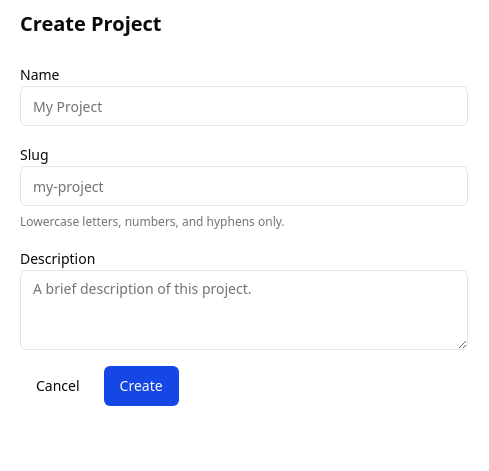
CreateProjectPage › slug validation rejects invalid slugs
// Manually set the name to something so slug gets generated, then clear slug and type invalid
Type "test" into the field labelled "Name" at (244, 106), box [20, 86, 468, 126]
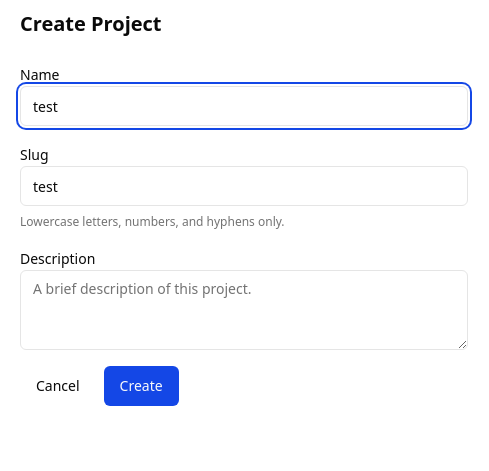
Replace the text in the field labelled "Slug" with "INVALID SLUG!" at (244, 186), box [20, 166, 468, 206]
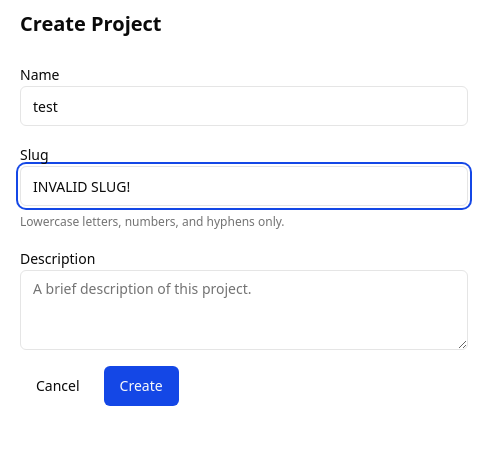
Click the button "Create" at (141, 386), box [104, 366, 179, 406]
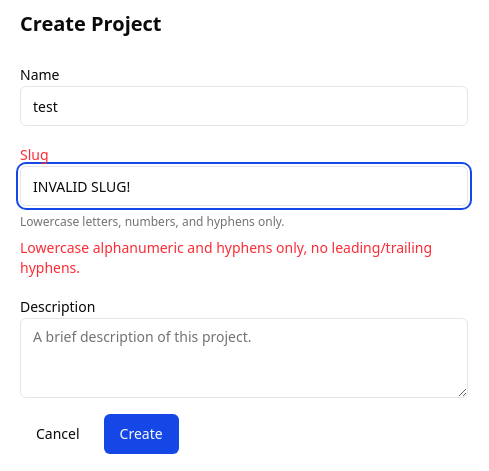
expect the text "Lowercase alphanumeric" is shown: met, box [20, 238, 432, 277]
